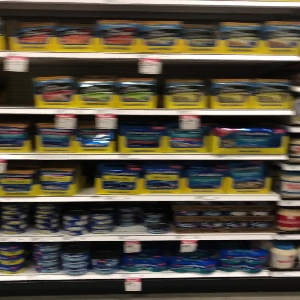void: (1, 59, 32, 108), (111, 202, 142, 234)
